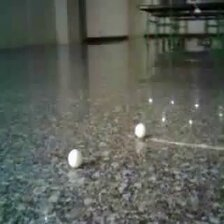w: (67, 150, 82, 168), (133, 123, 147, 139)
